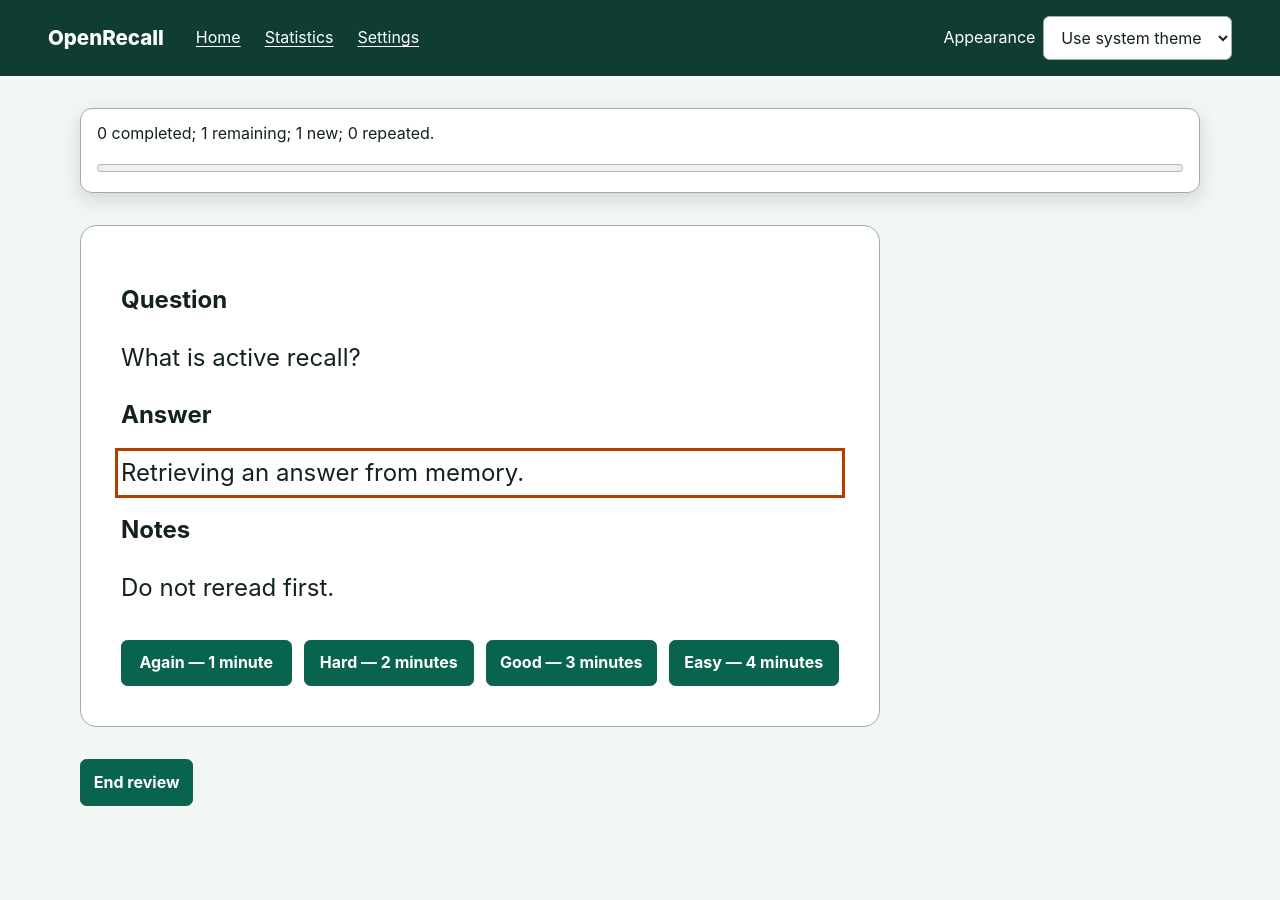
Test: ReviewPage NVDA interaction › ignores a rating response that resolves after section deletion
Click the button "Good — 3 minutes".
click(571, 663)  # box x1=486 y1=640 x2=656 y2=686
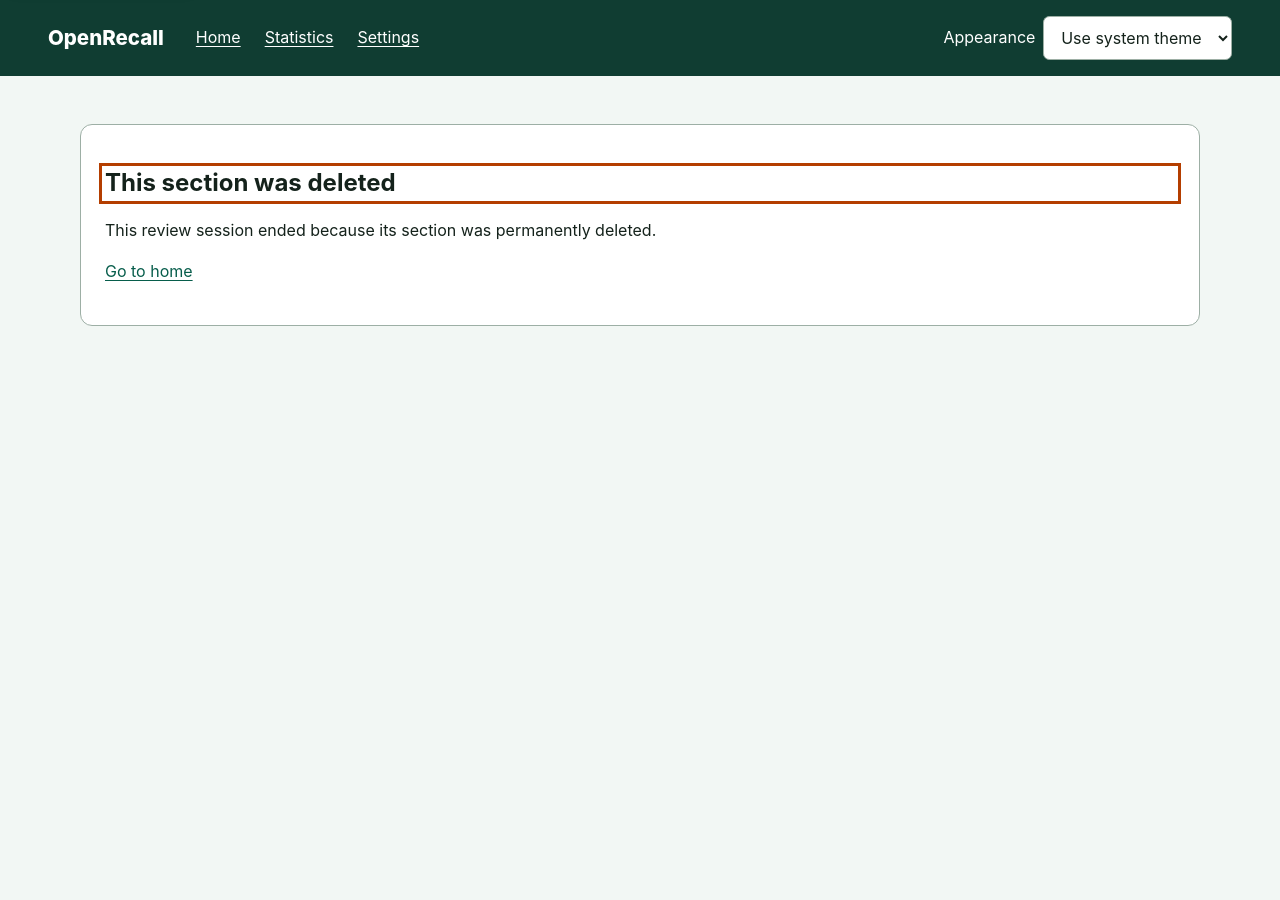
Now the heading "This section was deleted" is shown, box x1=105 y1=168 x2=396 y2=197
